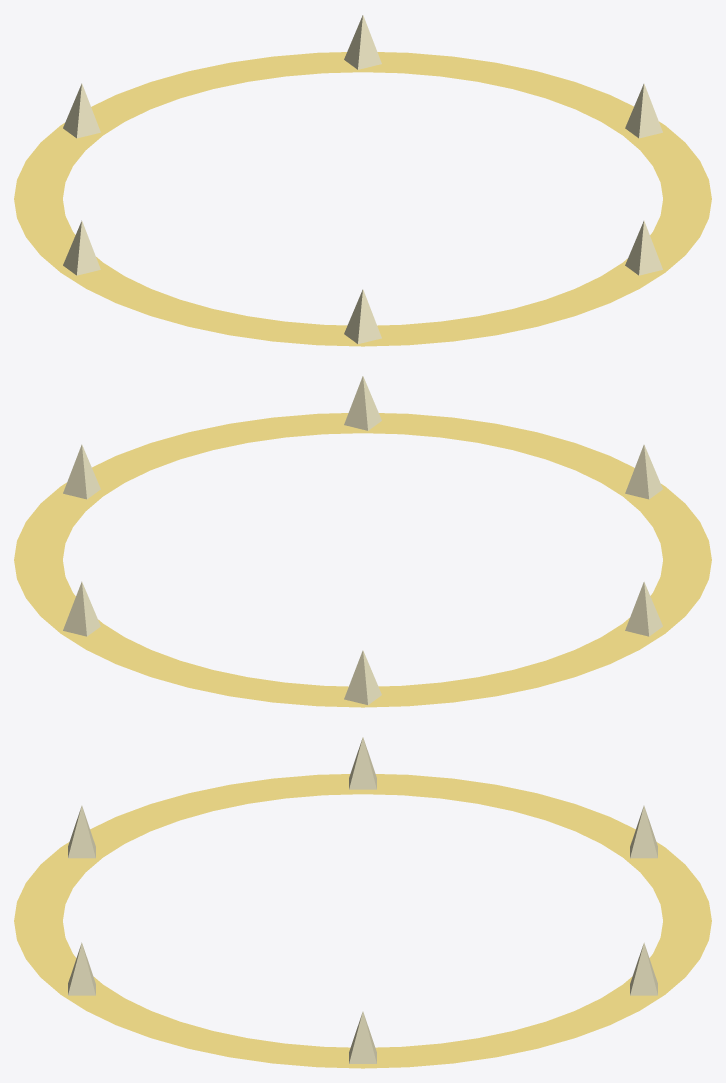
File: rarity_rare.glb
3 views of the same model, one above another, from view 1: azimuth 30°, elevation 25°; view 2: azimuth 150°, elevation 25°; view 3: azimuth 270°, elevation 25° (orthographic).
Parts seen in each view (by area): view 1: rarity_rare; view 2: rarity_rare; view 3: rarity_rare.
Boxes of the visible parts, box(x1,y1,x2,y2) form: rarity_rare: box(14, 15, 711, 346); rarity_rare: box(14, 376, 711, 707); rarity_rare: box(14, 737, 711, 1068).
Size of the model in its own units: 2 by 0.15 by 2.
Materials: 1 (1 with a texture image).
